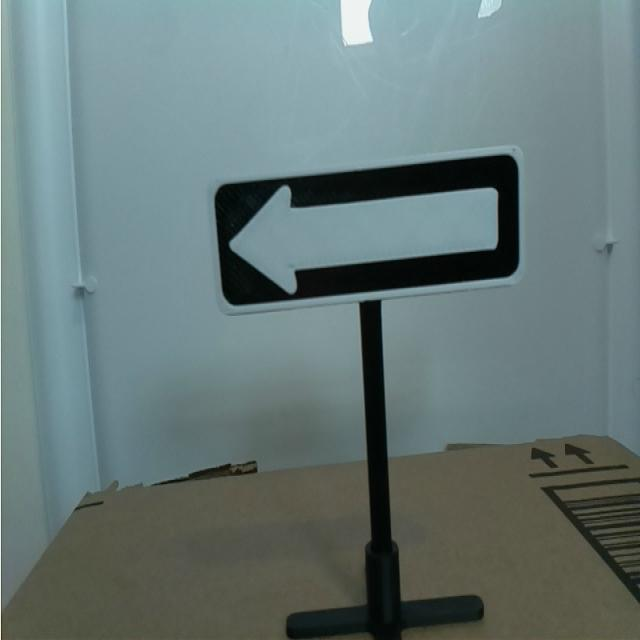sign_oneway_left: (203, 141, 538, 321)
